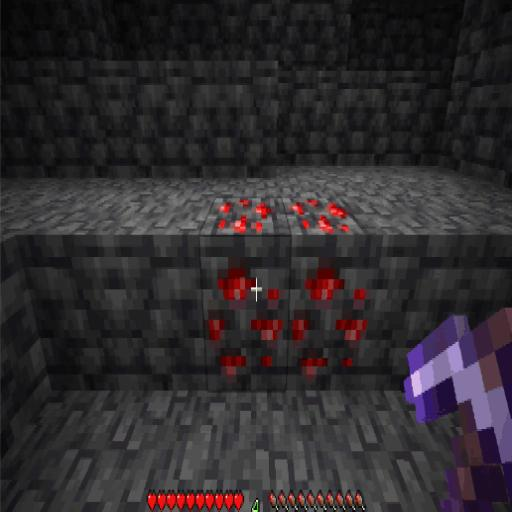redstone ore: (203, 194, 374, 394)
